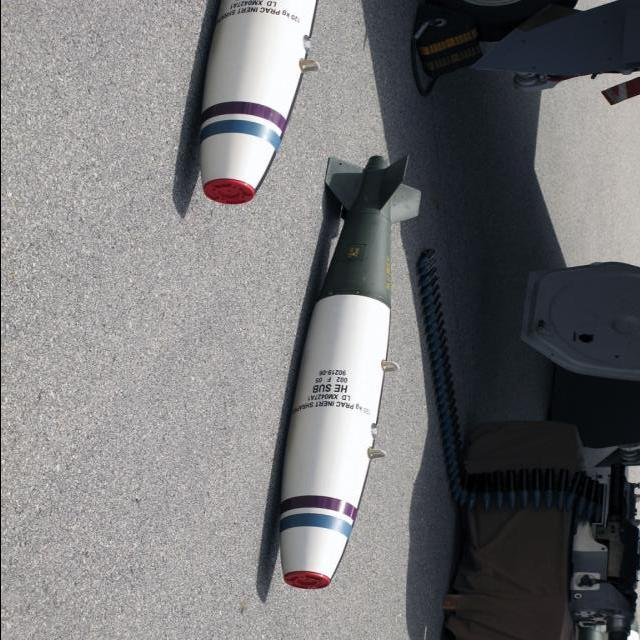Missile: (278, 149, 421, 592), (199, 0, 322, 205)
